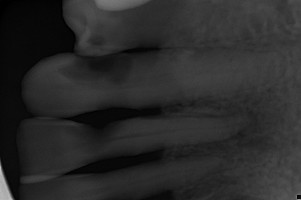Dental Caries: (162, 100, 281, 200)
